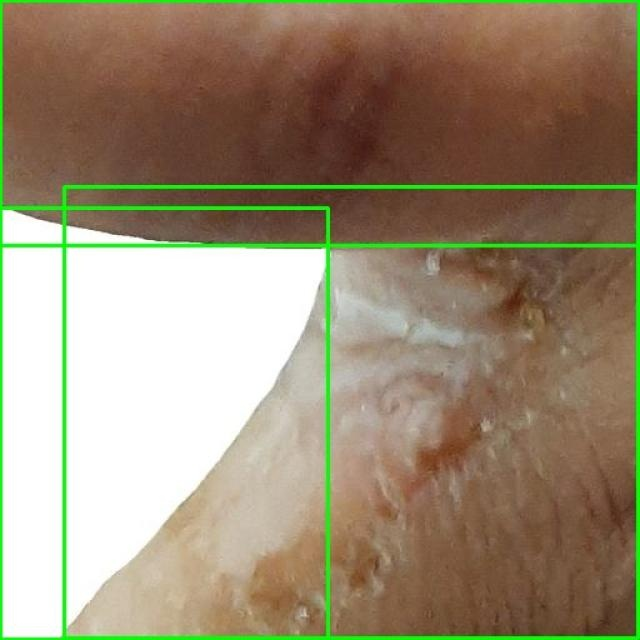Scabies: (64, 188, 639, 639), (0, 0, 639, 245), (0, 208, 328, 639)
